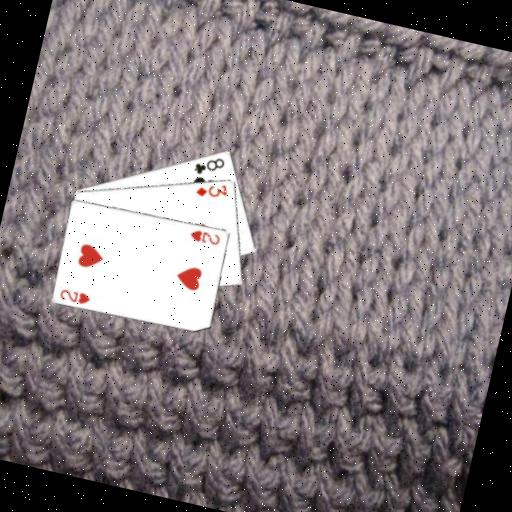2H: (186, 225, 224, 248), (56, 284, 93, 307)
3D: (192, 176, 231, 204)
8C: (190, 150, 228, 181)
